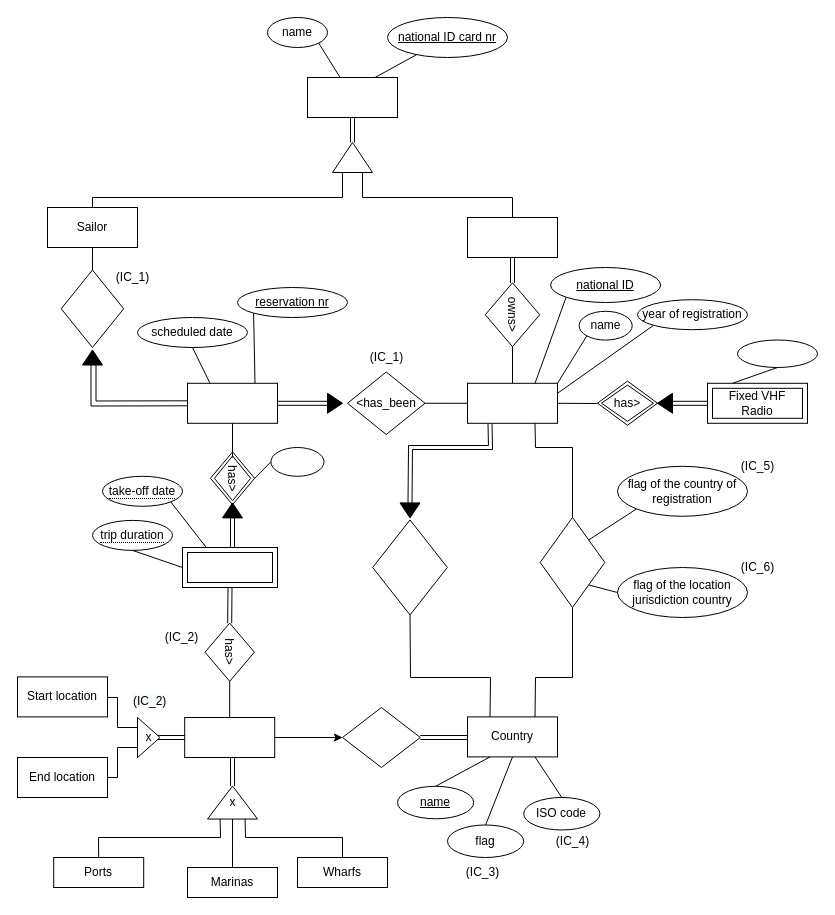
This 835x915 diagram has some shape labels left out. The shapes that lost their labels are listed below. From the top down, each one's box as (x1, y1, x2, y2) in pixels, then its label:
(306, 76, 398, 118): Person
(466, 216, 558, 258): Owner
(60, 269, 124, 348): makes_an>
(736, 339, 818, 368): MMSI ID
(186, 382, 278, 423): Reserve
(466, 382, 558, 423): Boat
(270, 446, 324, 476): quantity
(182, 546, 278, 588): Trip
(372, 519, 447, 615): resgistered_in>
(539, 516, 605, 608): traveling_to>
(184, 716, 275, 758): Location
(342, 706, 420, 768): exists_in>
